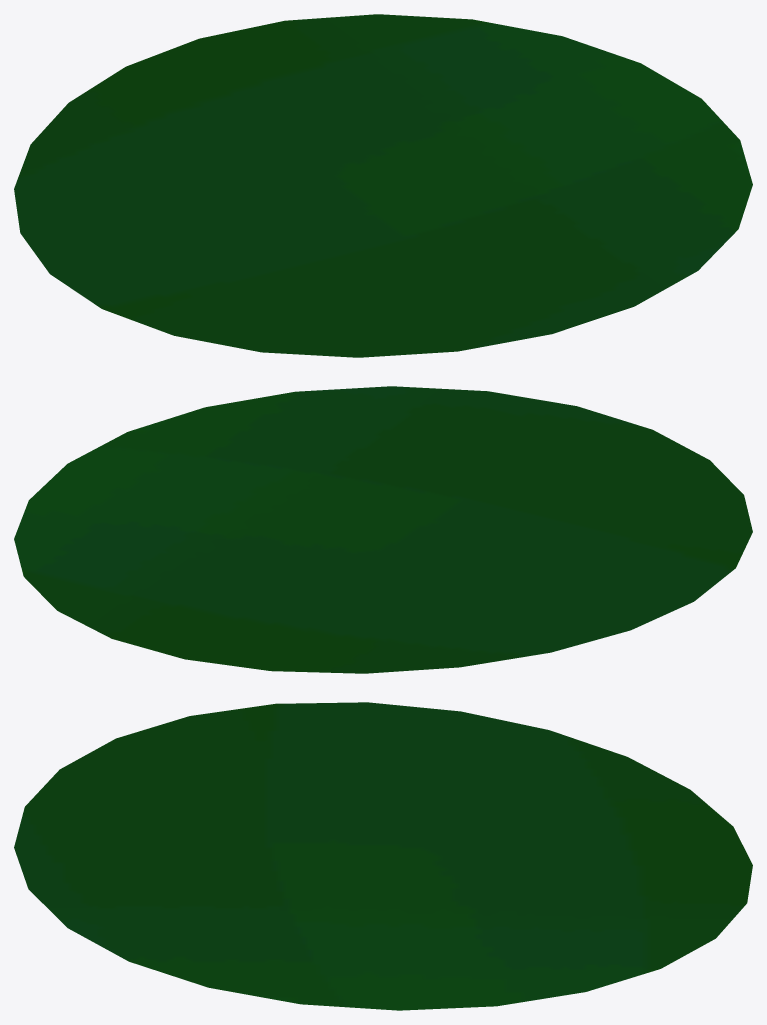
The model's file is puddle4.fbx.
3 views of the same model, one above another, from view 1: azimuth 30°, elevation 25°; view 2: azimuth 150°, elevation 25°; view 3: azimuth 270°, elevation 25° (orthographic). The views are drawn at different scales.
Visible parts, largest first — view 1: Puddle4; view 2: Puddle4; view 3: Puddle4.
Boxes of the visible parts, box(x1,y1,x2,y2) form: Puddle4: box(14, 14, 752, 357); Puddle4: box(14, 386, 752, 673); Puddle4: box(14, 702, 752, 1010).
Size of the model in its own units: 1.81 by 0 by 1.83.
Materials: 1 (1 with a texture image).
